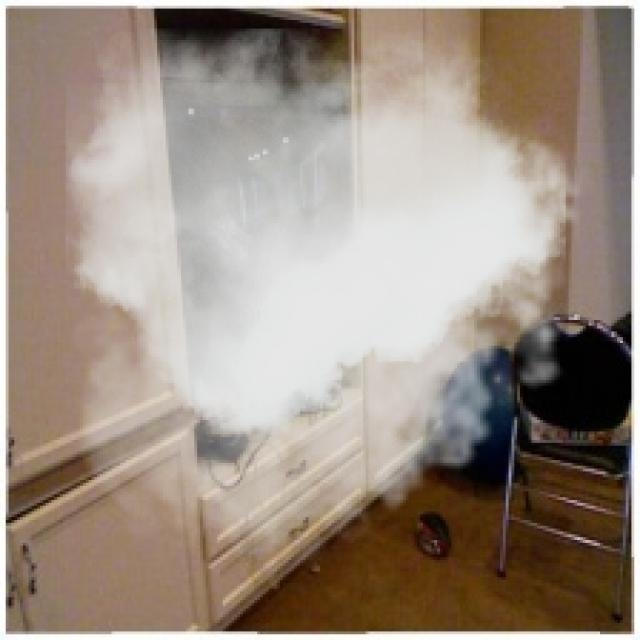Smoke: (65, 29, 598, 578)
